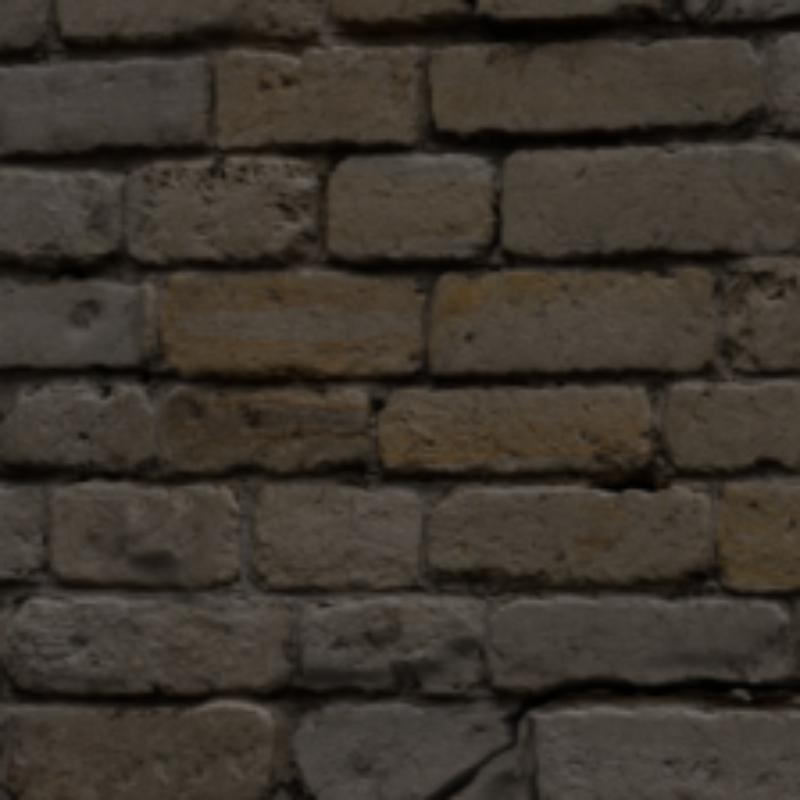pothole: (425, 675, 796, 796)
